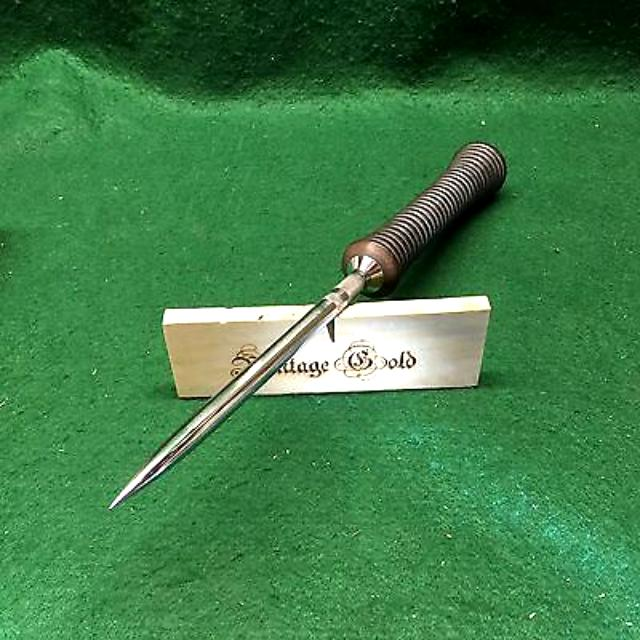ice pick: (108, 142, 506, 510)
